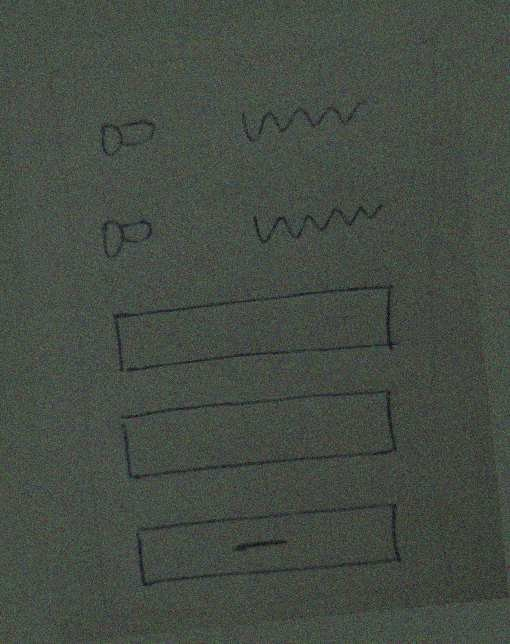button: (128, 492, 408, 596)
switch: (86, 109, 169, 173), (89, 206, 172, 270)
text: (229, 89, 375, 148), (247, 190, 393, 249)
text_input: (109, 378, 409, 490), (107, 275, 406, 387)
